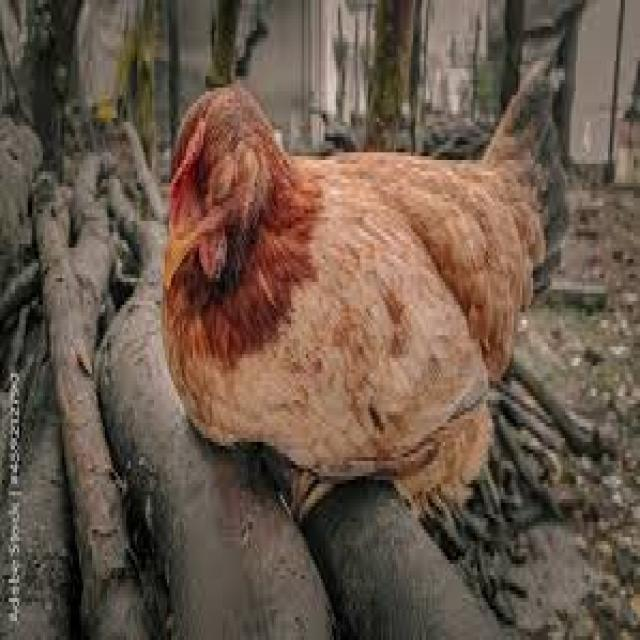sleeping chickens: (115, 40, 579, 501)
